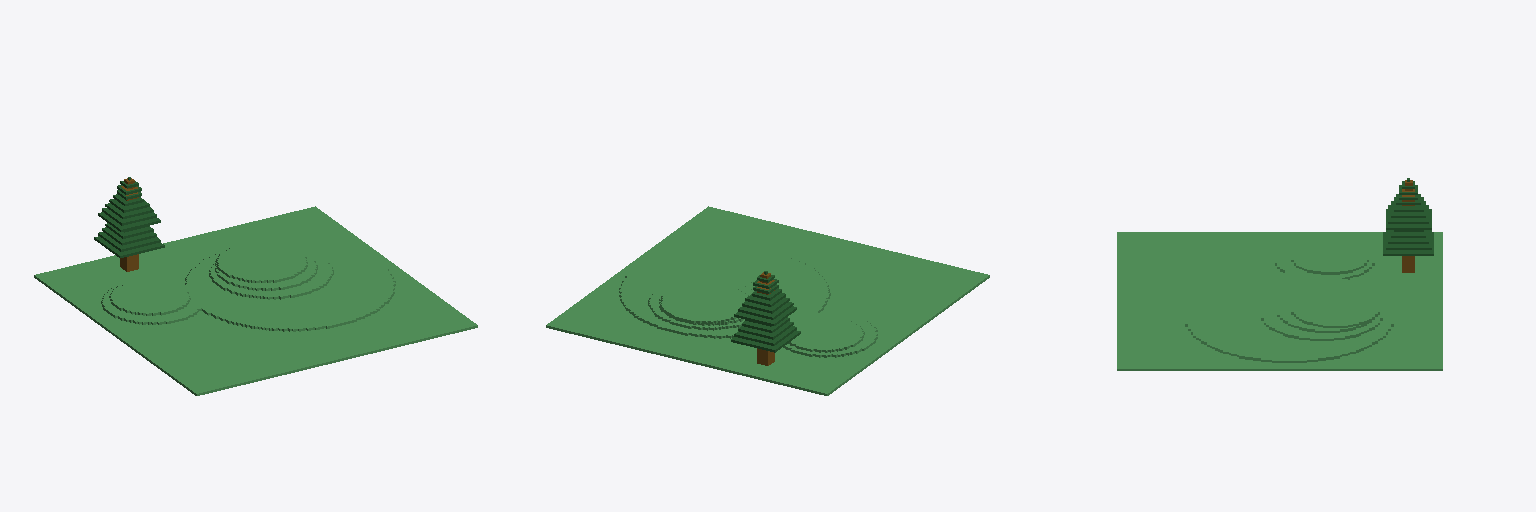
3 renders of one model, left to right at view 1: azimuth 30°, elevation 25°; view 2: azimuth 150°, elevation 25°; view 3: azimuth 270°, elevation 25°, orthographic.
Parts seen in each view (by area): view 1: HereBoy_Land1; view 2: HereBoy_Land1; view 3: HereBoy_Land1.
Boxes of the visible parts, x1,y1,x2,y2 form: HereBoy_Land1: [34, 177, 477, 395]; HereBoy_Land1: [546, 206, 989, 395]; HereBoy_Land1: [1117, 178, 1442, 370].
Bounding box in the file's own units: 120 × 38 × 120.
Materials: 1 (1 with a texture image).